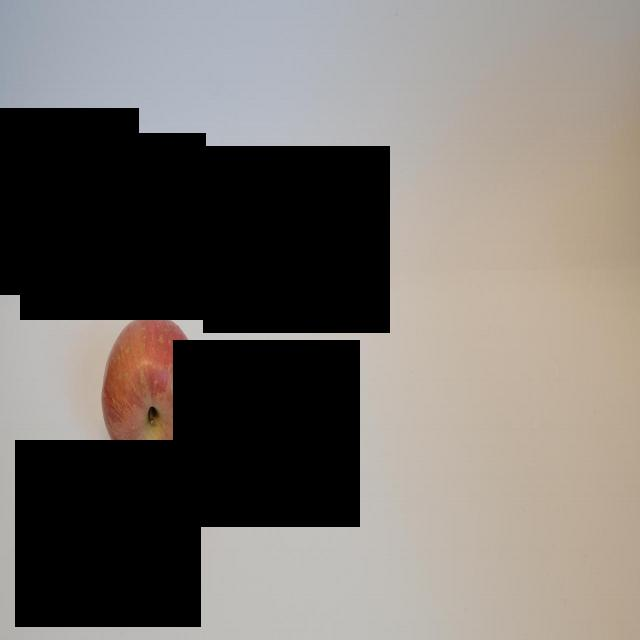apple: (98, 308, 205, 476)
